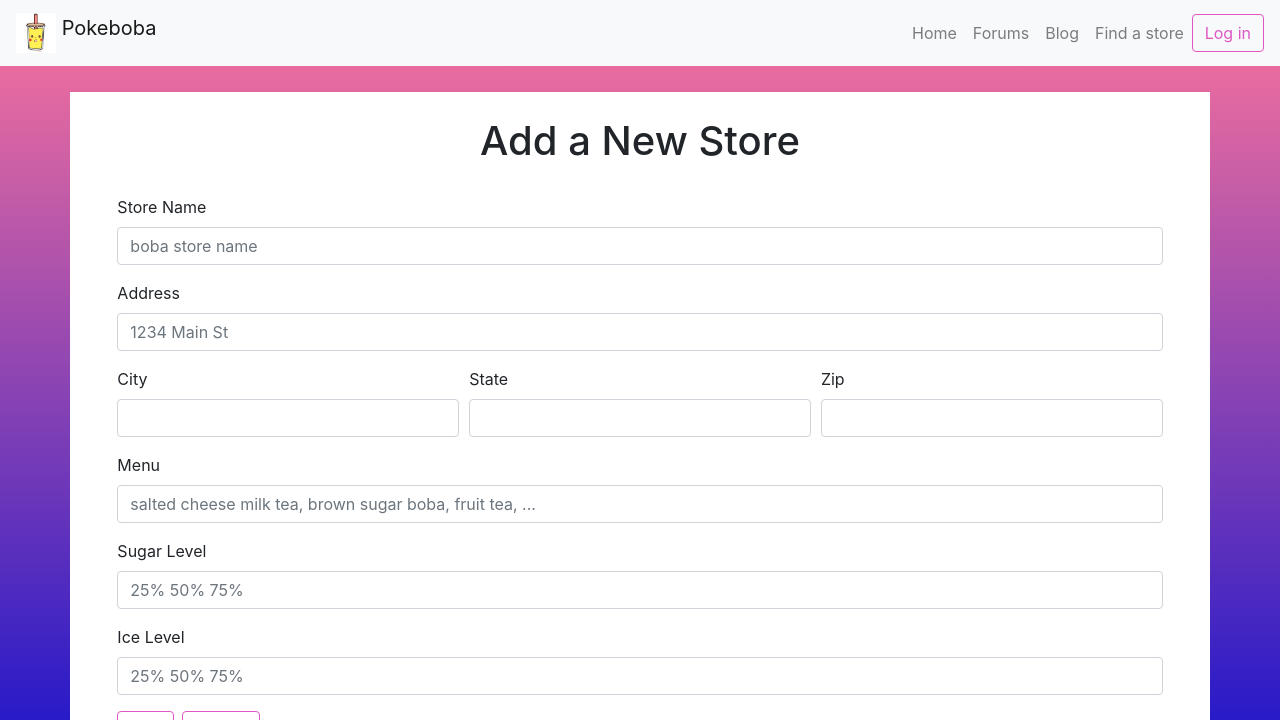
Test: Testing Add a New Store Page › Not submitting form with invalid inputs › zip is string
Type "dfjksdj" into the field with class "storeZipInput". click: (992, 418)
box: [821,399,1163,437]
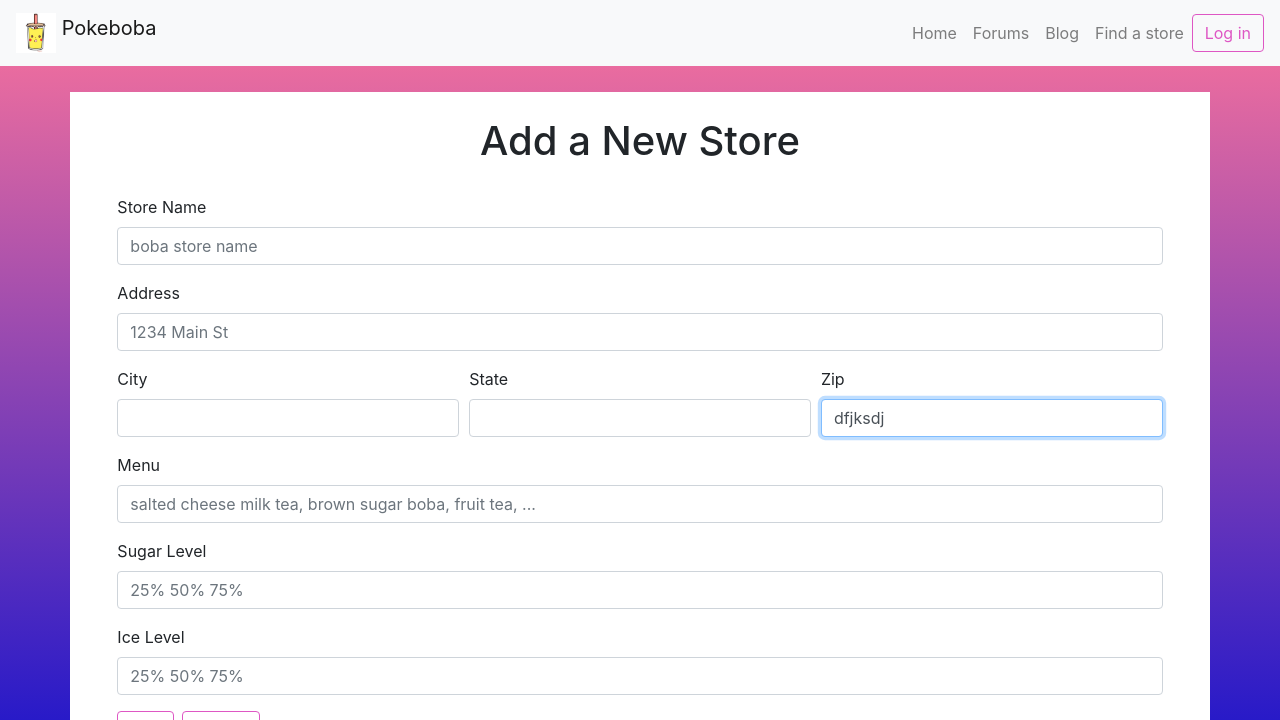
Scroll
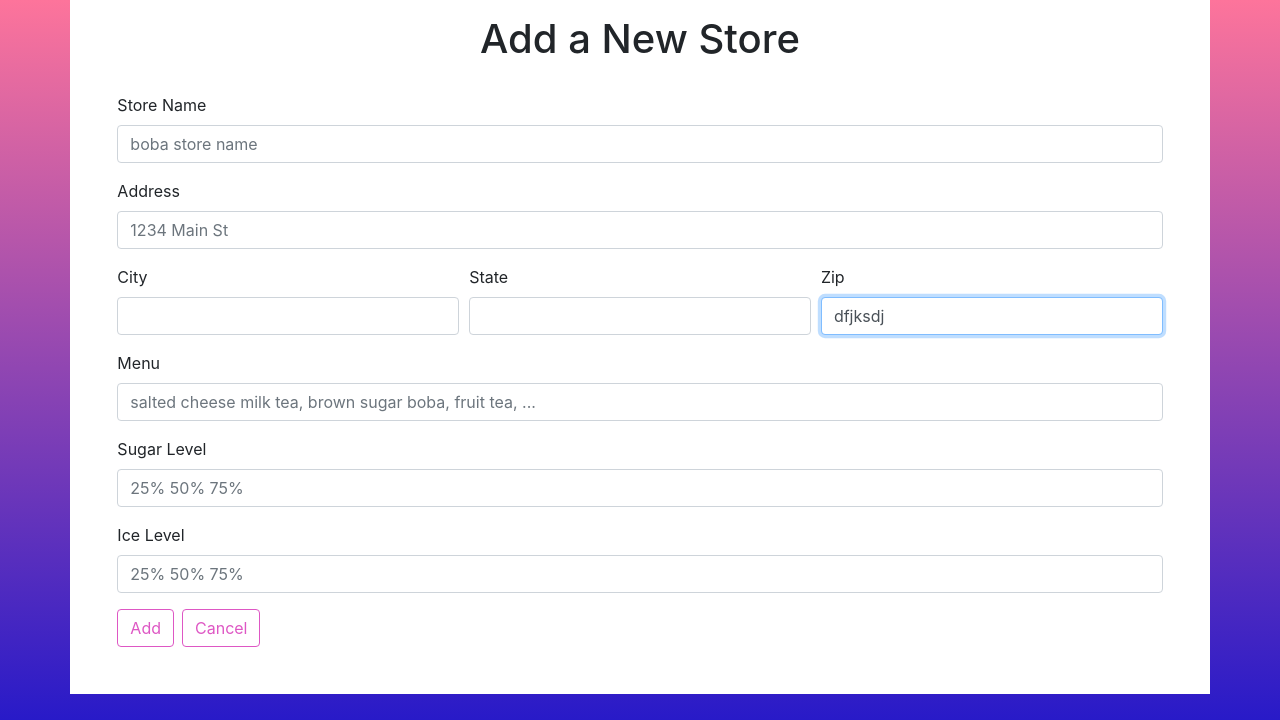
Click the link with class "storeAddButton". click: (146, 628)
box: [117,609,174,647]
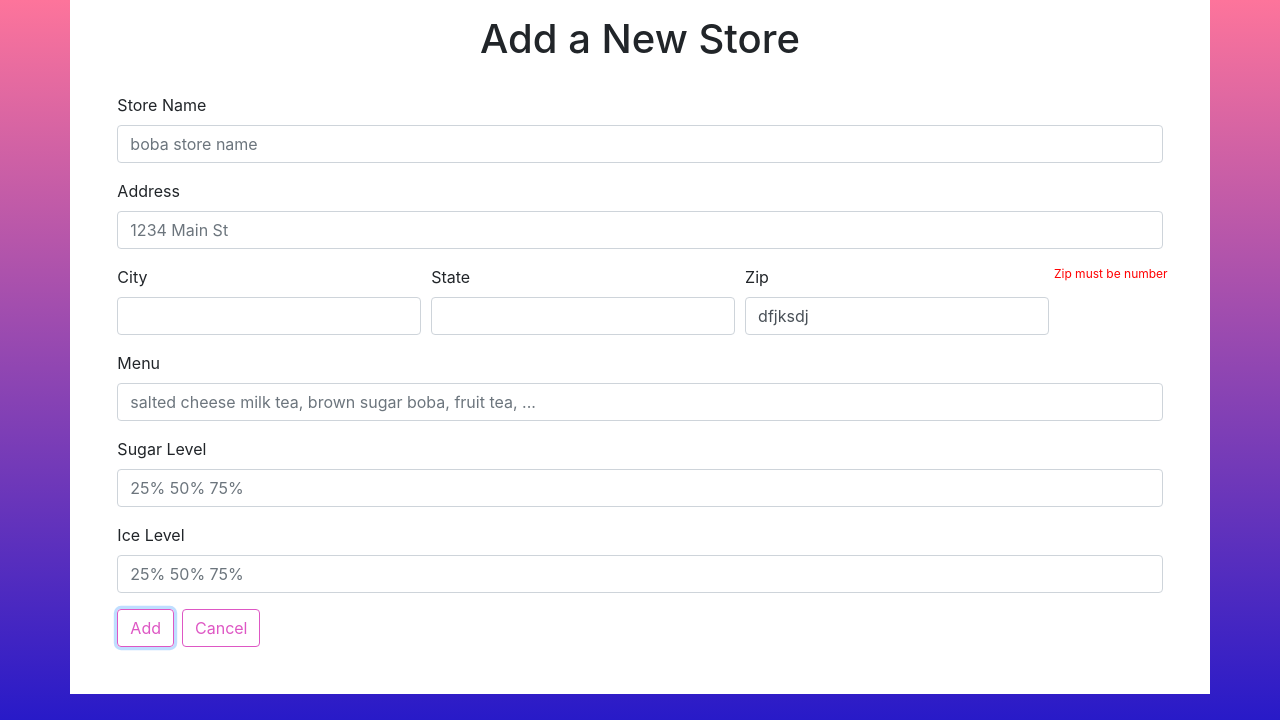
Now the text "Zip must be number" is shown, box [1054,266,1168,281]
